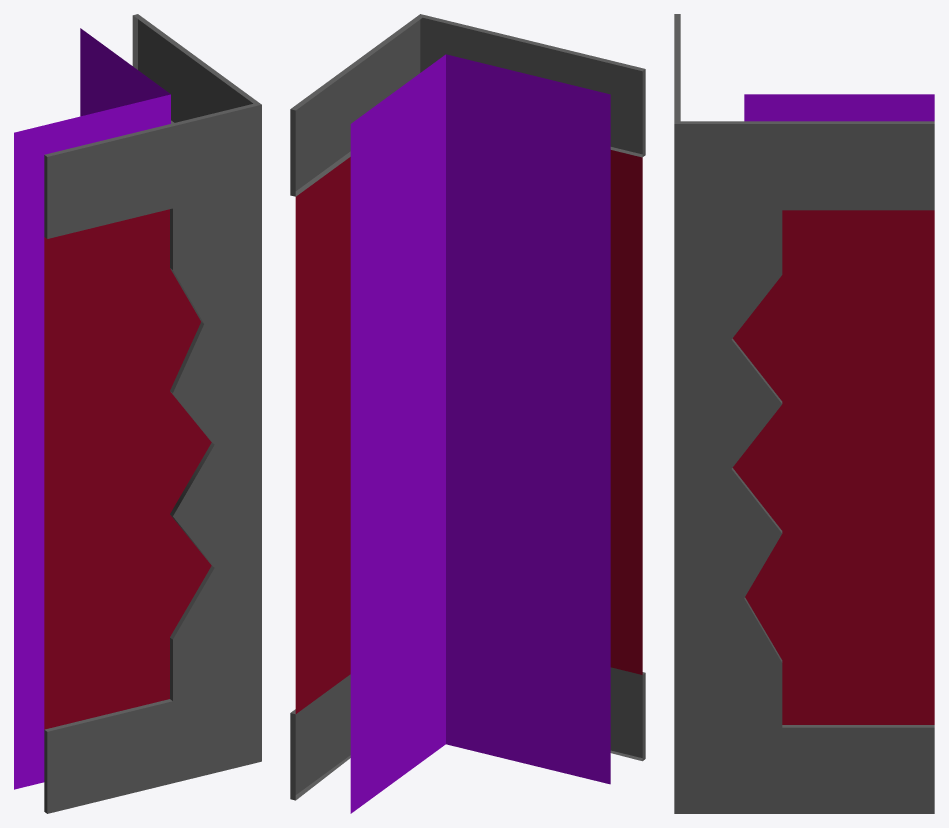
Rendered from Corner_01_1x3.fbx.
The picture shows the model from 3 angles, left to right: view 1: azimuth 30°, elevation 25°; view 2: azimuth 150°, elevation 25°; view 3: azimuth 270°, elevation 25°; orthographic projection. The views are drawn at different scales.
Parts seen in each view (by area): view 1: Wall_Corner_1x3; view 2: Wall_Corner_1x3; view 3: Wall_Corner_1x3.
Boxes of the visible parts, box(x1,y1,x2,y2) form: Wall_Corner_1x3: box(14, 14, 261, 813); Wall_Corner_1x3: box(290, 14, 645, 813); Wall_Corner_1x3: box(674, 14, 934, 813).
Bounding box in the file's own units: 1.02 × 3 × 1.03.
